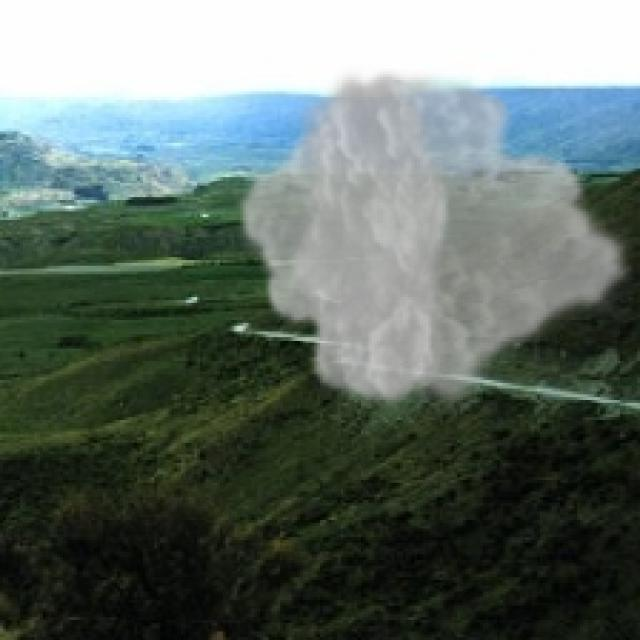smoke: (235, 63, 634, 414)
